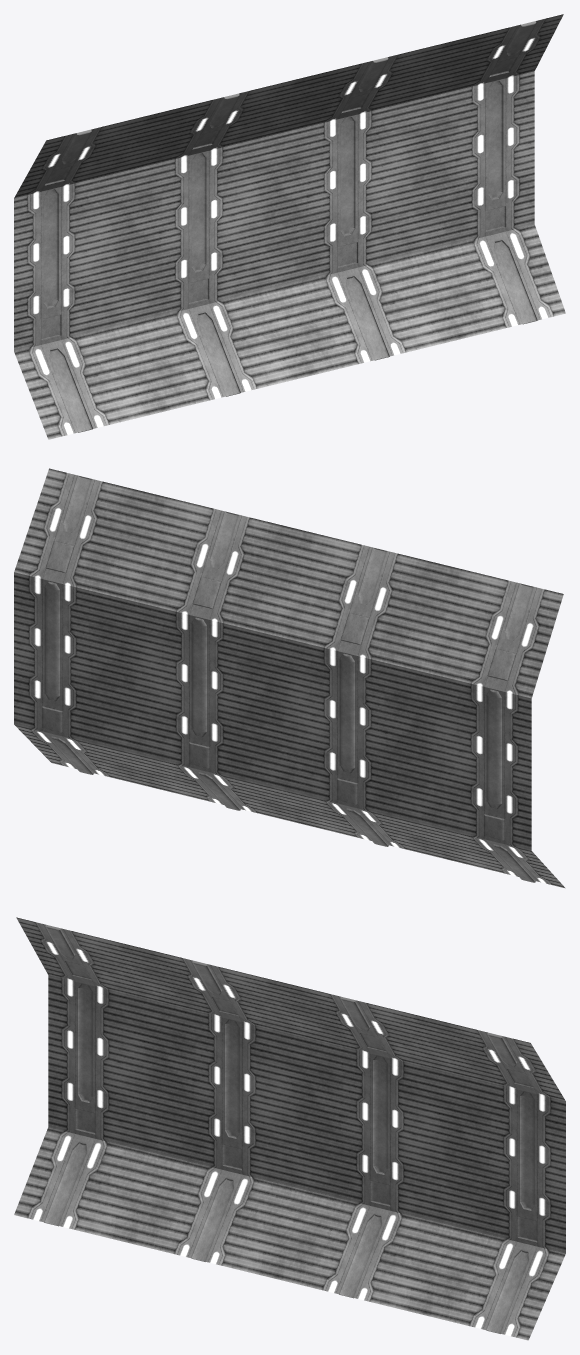
File: wallCleanBT.fbx
3 views of the same model, one above another, from view 1: azimuth 30°, elevation 25°; view 2: azimuth 150°, elevation 25°; view 3: azimuth 330°, elevation 25° (orthographic).
Parts seen in each view (by area): view 1: Wall_Clean_w_Bottom_and_Top; view 2: Wall_Clean_w_Bottom_and_Top; view 3: Wall_Clean_w_Bottom_and_Top.
Part boxes in pixels (left/top/right/bottom): Wall_Clean_w_Bottom_and_Top: left=14, top=14, right=565, bottom=439; Wall_Clean_w_Bottom_and_Top: left=14, top=468, right=565, bottom=888; Wall_Clean_w_Bottom_and_Top: left=14, top=917, right=565, bottom=1340.
Bounding box in the file's own units: 754 × 414 × 89.9.
